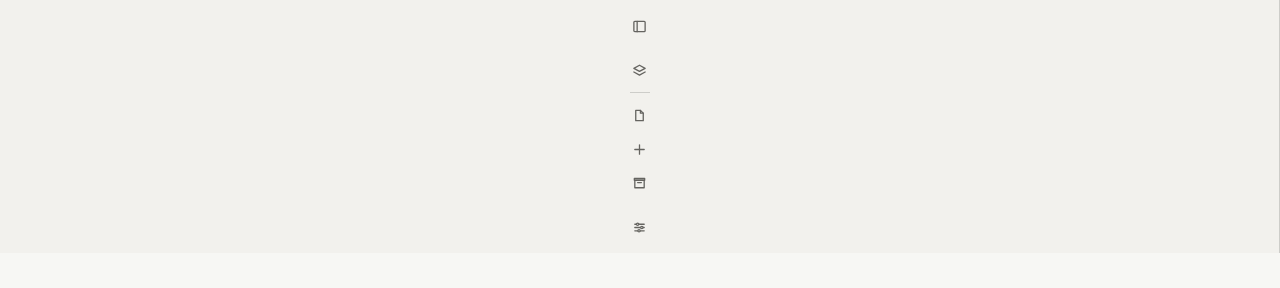
Test: Rail › アーカイブを押すと、Archive 区分が開いた状態で Sidebar が開く
Click the button named "アーカイブ" at x=640, y=183, box top-left (624, 167), bottom-right (656, 199)
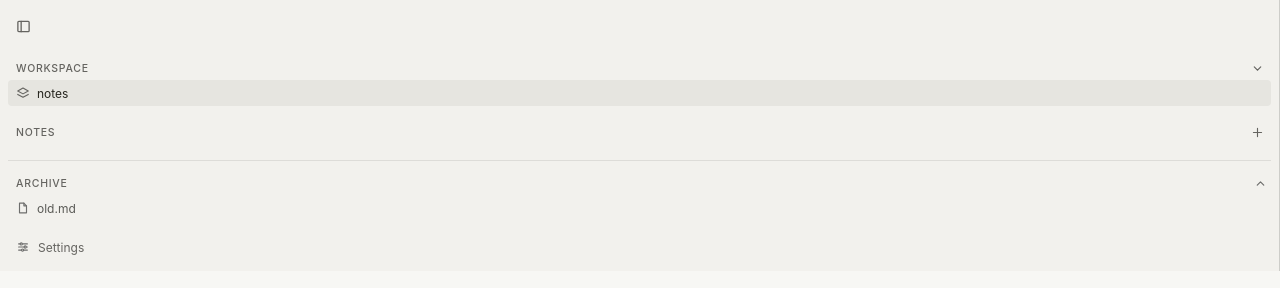
Result: the text with class "tree-label" reads "old.md" at top-left (37, 200), bottom-right (76, 216)
